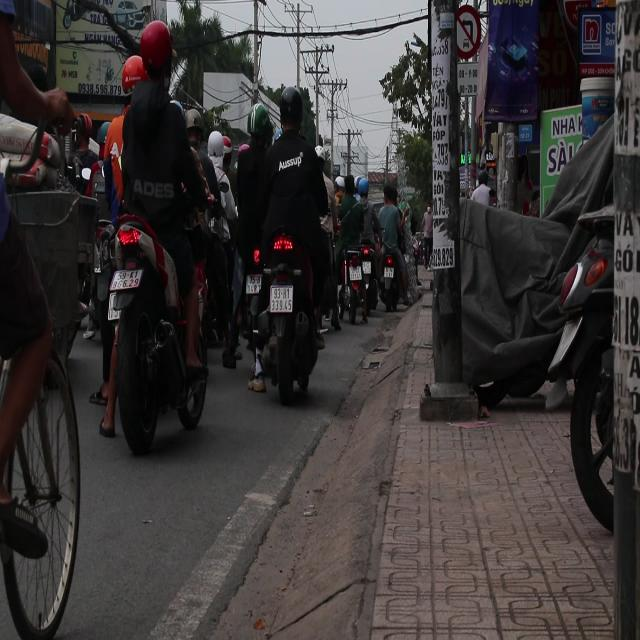motorbike: (540, 157, 640, 577), (89, 196, 208, 455), (240, 219, 326, 405), (380, 249, 410, 323), (344, 242, 366, 338)
